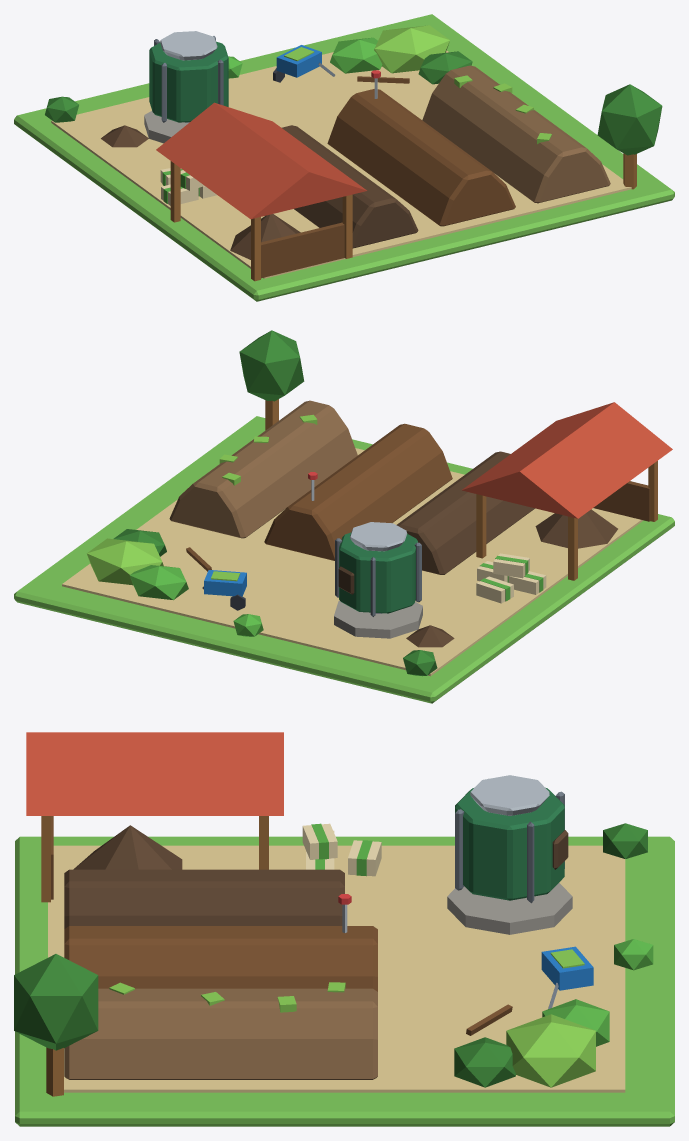
Rendered from composting_yard.glb.
The picture shows the model from 3 angles, top to bottom: view 1: azimuth 30°, elevation 25°; view 2: azimuth 150°, elevation 25°; view 3: azimuth 270°, elevation 25°; orthographic projection. The views are drawn at different scales.
Parts seen in each view (by area): view 1: corpo, gira_1.001; view 2: corpo, gira_1.001; view 3: corpo, gira_1.001.
Part boxes in pixels (<box>): corpo: <box>14,14,674,301</box>; gira_1.001: <box>149,31,228,122</box>; corpo: <box>14,330,674,703</box>; gira_1.001: <box>335,522,421,616</box>; corpo: <box>14,732,674,1126</box>; gira_1.001: <box>455,775,568,903</box>.
Size of the model in its own units: 4.01 by 1.04 by 4.01.
